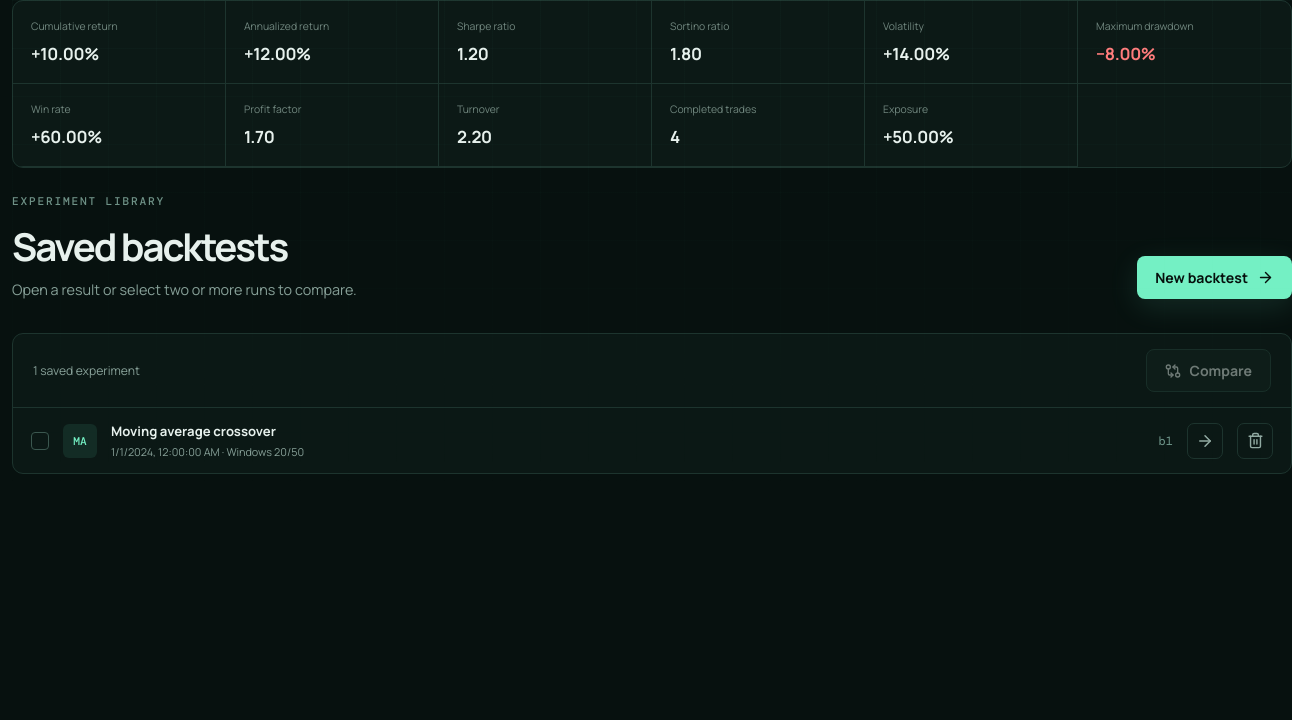
Test: critical user flow › renders metrics and deletes an owned saved result
Expected: the text "+10.00%" is shown, [31,42,99,65]
Expected: the text "−8.00%" is shown, [1096,42,1156,65]
Click the button named "Delete backtest".
click(1255, 440)  # box [1237,422,1273,458]
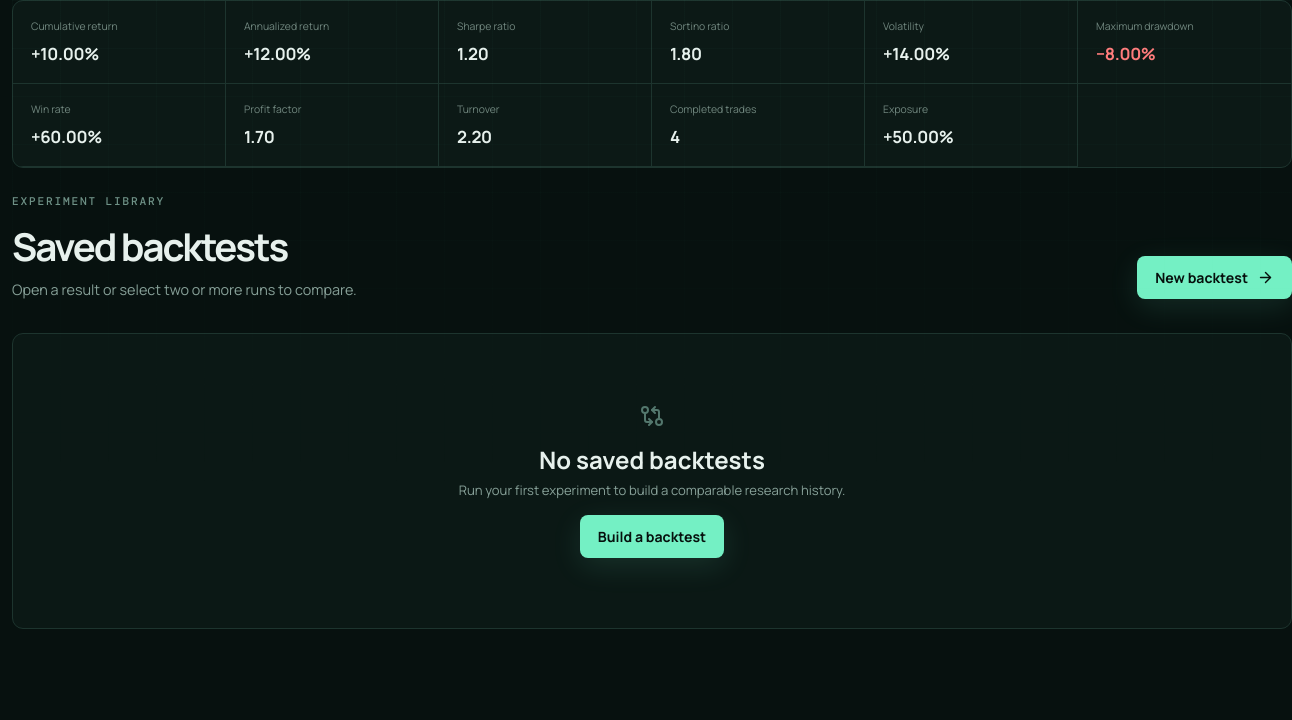
Now the text "Moving average crossover" is gone
